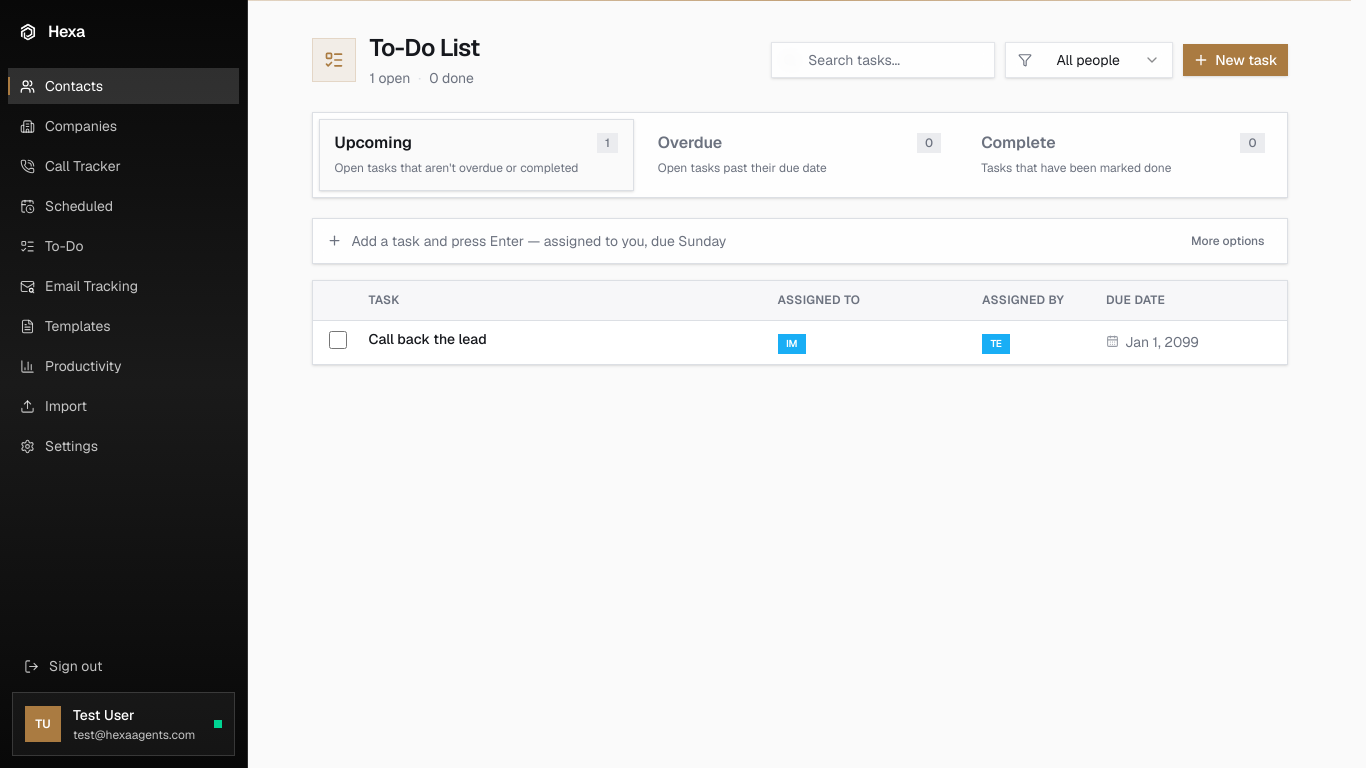
Test: TodoListPage › estimates the due date from the typed title and description
Step 1. Click the button "New task" → x=1235, y=60, box [1183,44,1288,76]
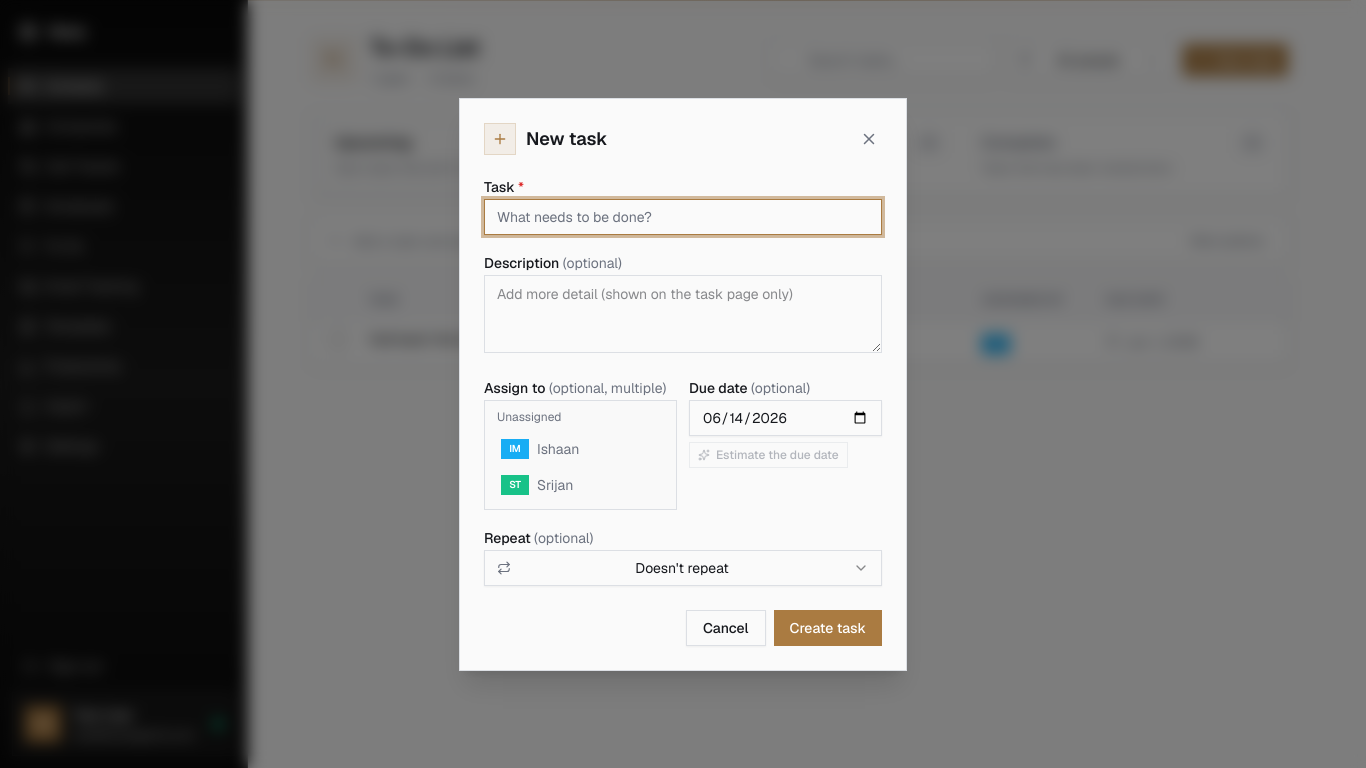
Step 2. Type "Prepare quarterly report" into the field labelled "Task *" → x=683, y=216, box [484,198,882,234]
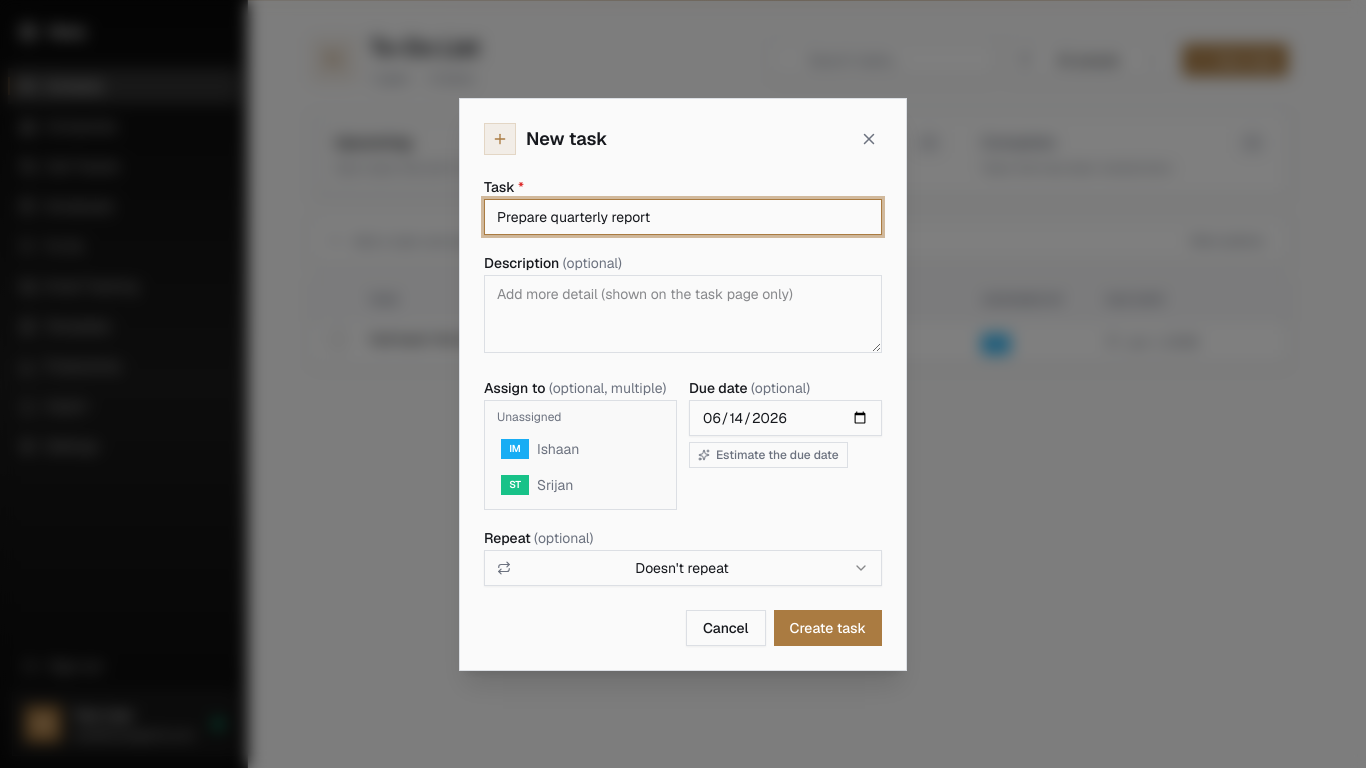
Step 3. Type "Full breakdown" into the text box labelled "Description (optional)" → x=683, y=314, box [484,274,882,352]
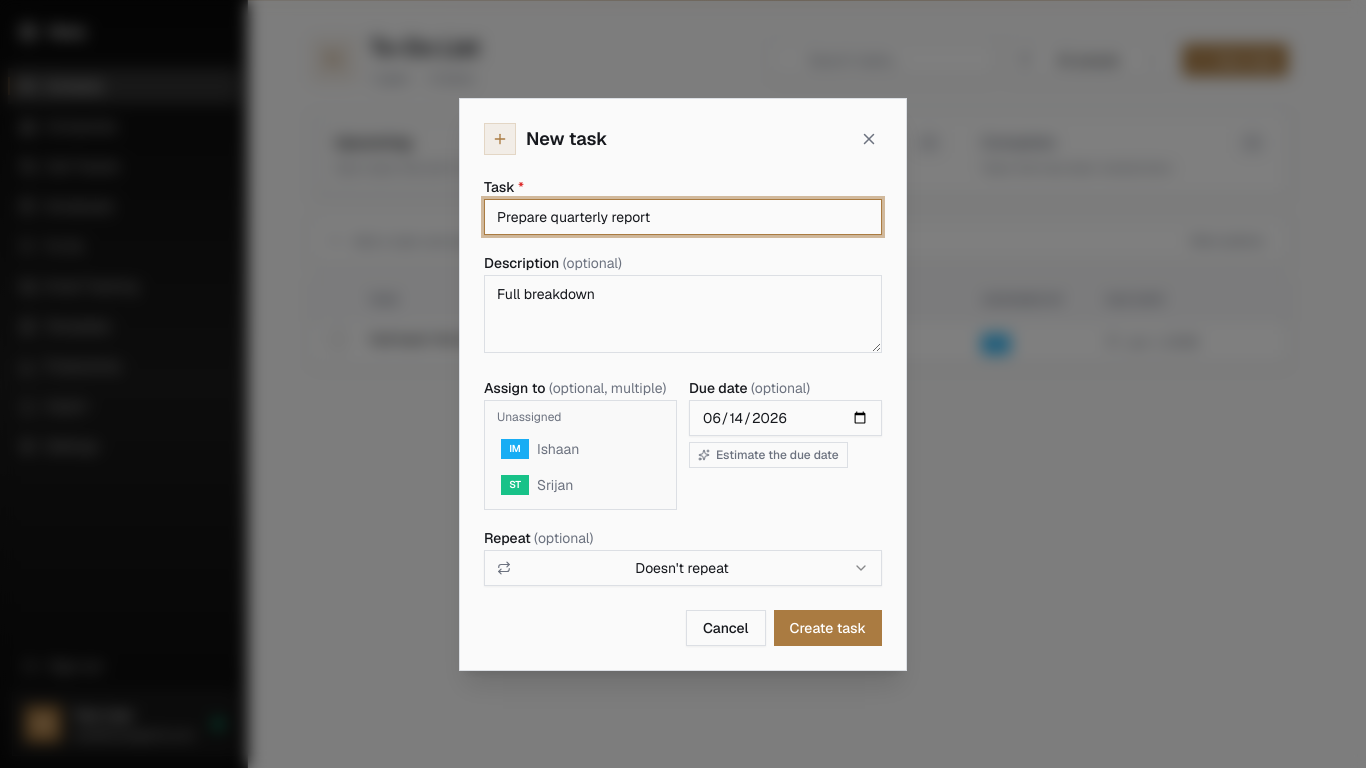
Step 4. Click the button "Estimate the due date" → x=768, y=454, box [689,442,848,468]
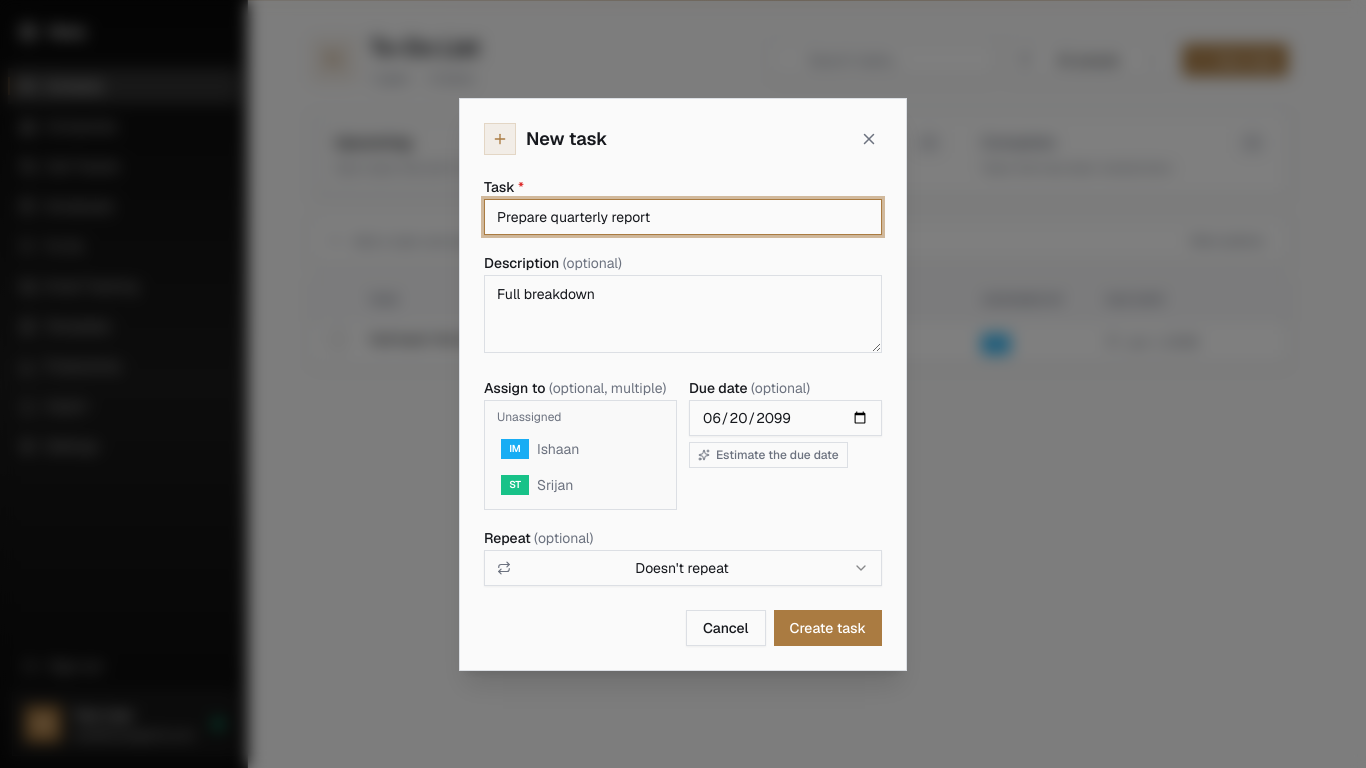
Expected: the date field labelled "Due date (optional)" holds "2099-06-20", [689,400,882,436]
